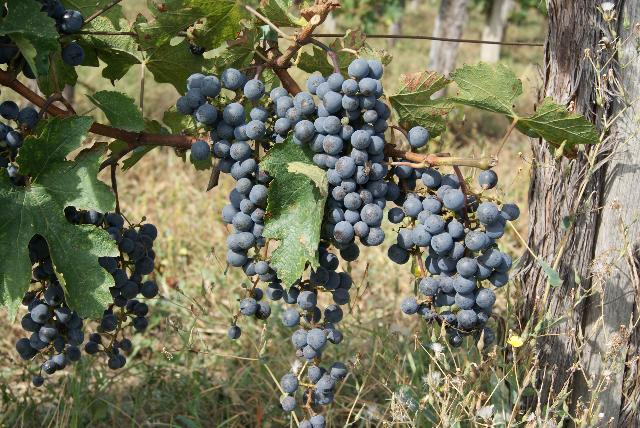grapes: (276, 59, 400, 260), (388, 169, 519, 348), (179, 68, 270, 280), (65, 206, 159, 332)
